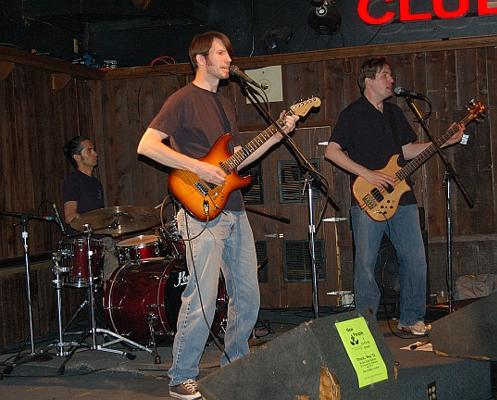person: (136, 31, 296, 399)
